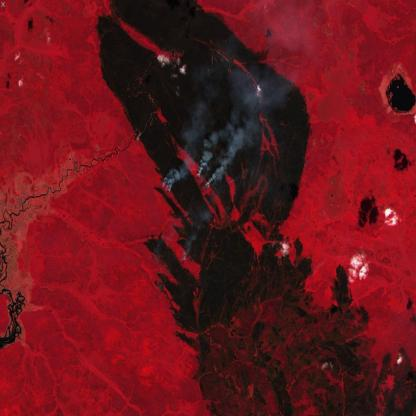fire: (194, 166, 220, 192), (150, 237, 166, 263), (178, 248, 191, 274), (161, 176, 173, 200)
